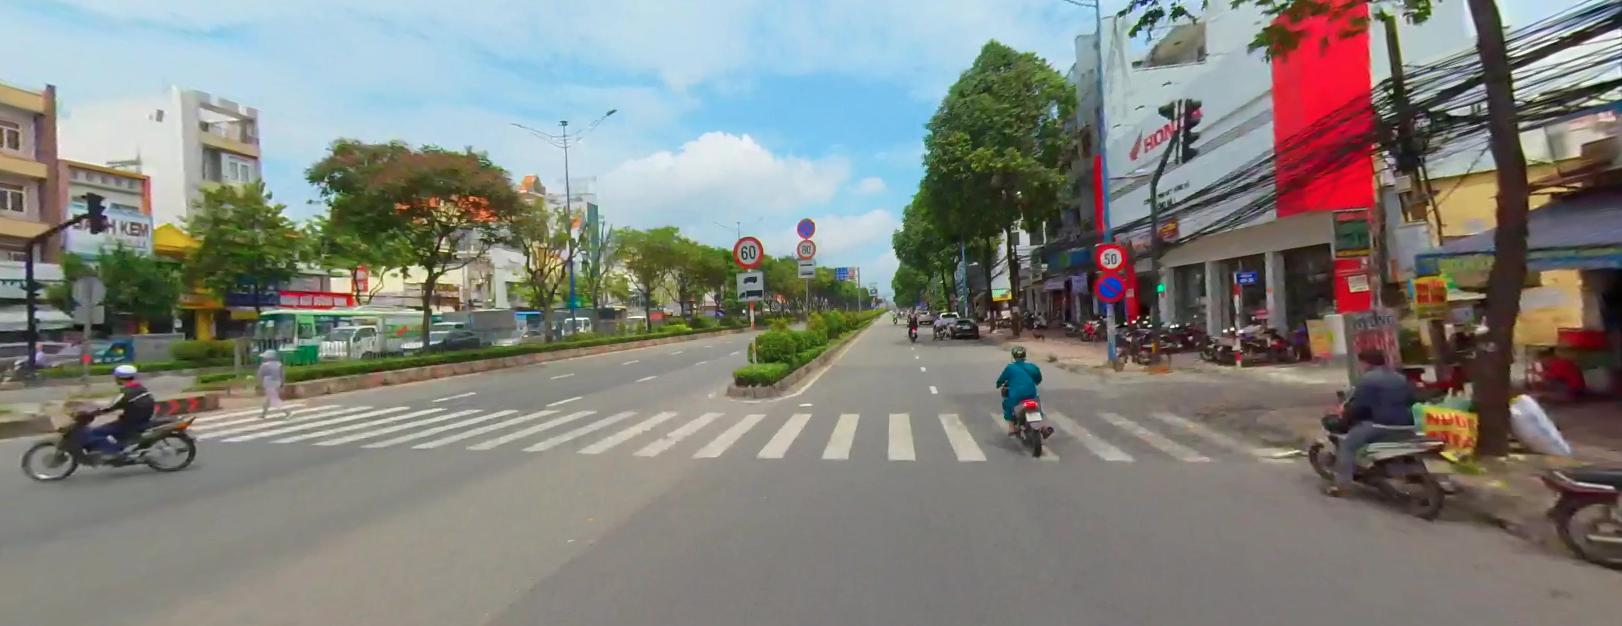Cam dung va do: (1094, 272, 1127, 299), (795, 216, 816, 236)
Gioi han toc do: (733, 233, 765, 267), (1094, 240, 1127, 269), (795, 237, 815, 257)
